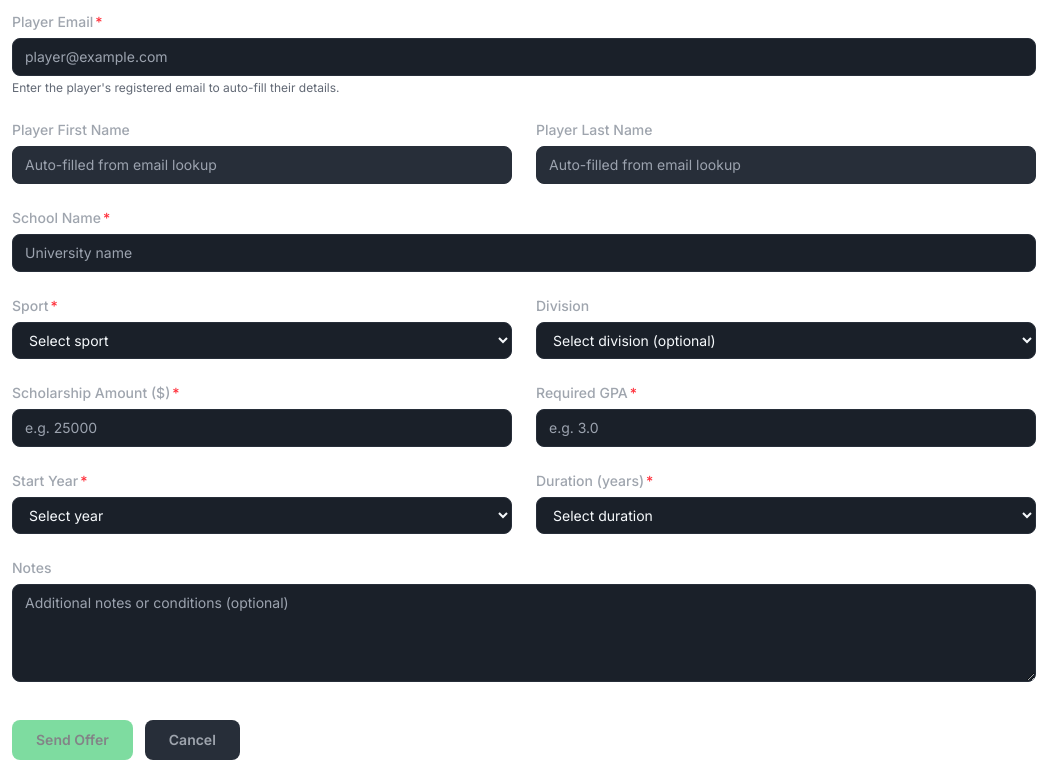
ScholarshipForm — email lookup › shows not found message when player does not exist
In the field labelled "Player Email*": (524, 57) [12,38,1036,76], type "unknown@example.com"
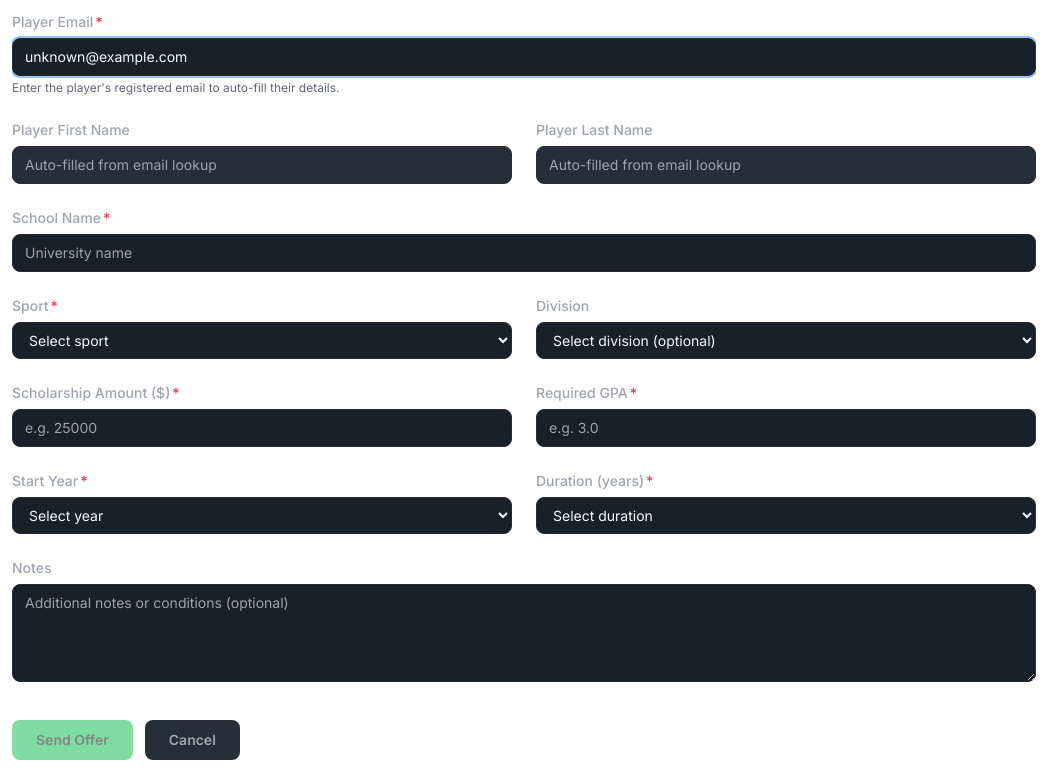
Press Tab
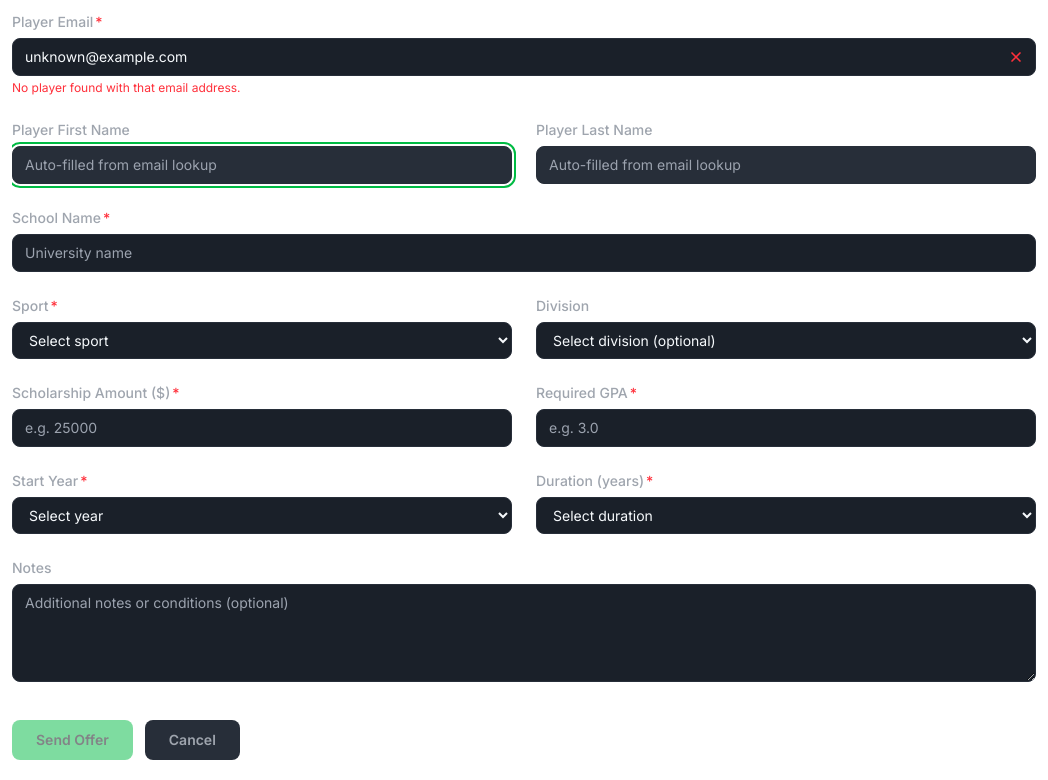
Check: the text "No player found with that email address." is shown, box [12,80,240,95]
